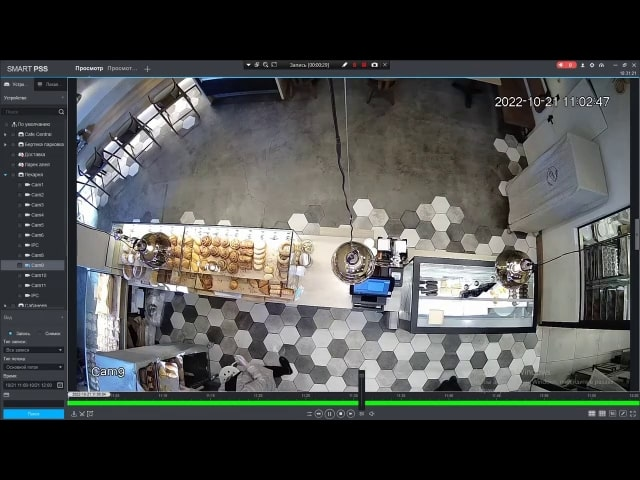barcounter: (86, 224, 543, 334)
